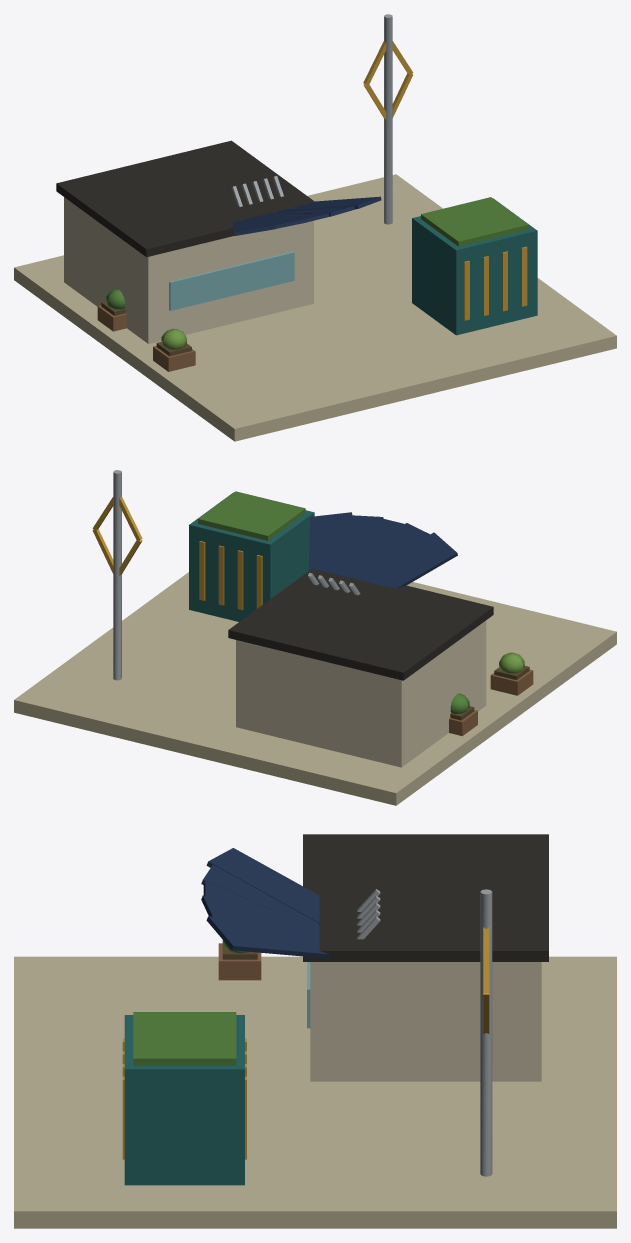
The model's file is b03-sungrid-utility-v2-lod0.glb.
3 renders of one model, top to bottom at view 1: azimuth 30°, elevation 25°; view 2: azimuth 150°, elevation 25°; view 3: azimuth 270°, elevation 25°, orthographic. The views are drawn at different scales.
Parts seen in each view (by area): view 1: MESH_B03_SUNGRID_UTILITY; view 2: MESH_B03_SUNGRID_UTILITY; view 3: MESH_B03_SUNGRID_UTILITY.
Part boxes in pixels (x1,y1,x2,y2): MESH_B03_SUNGRID_UTILITY: (14, 14, 616, 441); MESH_B03_SUNGRID_UTILITY: (14, 470, 616, 805); MESH_B03_SUNGRID_UTILITY: (14, 834, 616, 1228).
Bounding box in the file's own units: 12 × 6.58 × 12.
